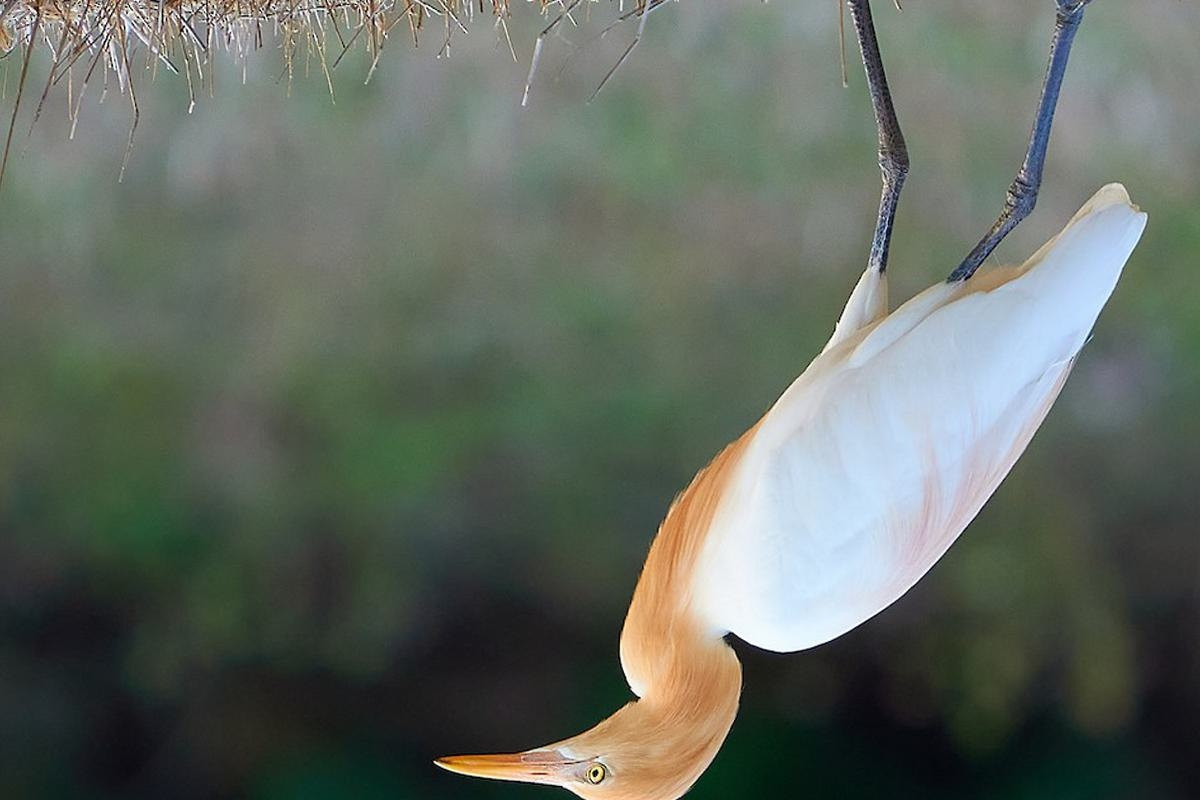egret: (416, 22, 1145, 792)
